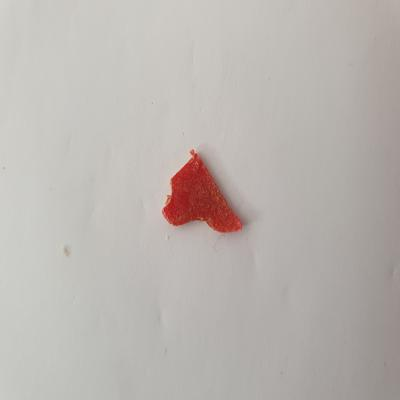plastic: (156, 144, 246, 249)
